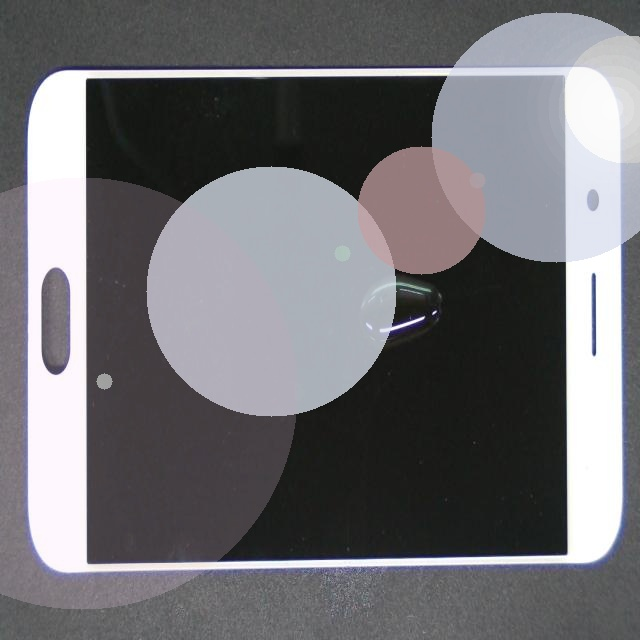oil: (242, 152, 640, 433)
